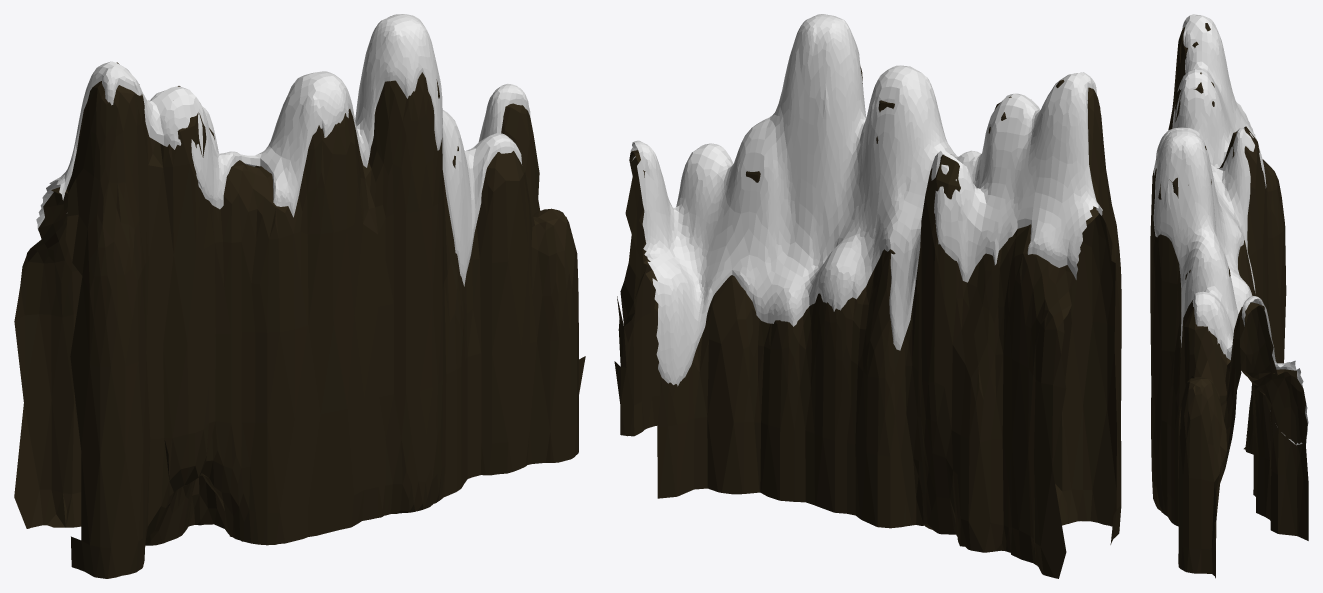
The model's file is Mtn_Wall_N0.fbx.
3 views of the same model, side by side, from view 1: azimuth 30°, elevation 25°; view 2: azimuth 150°, elevation 25°; view 3: azimuth 270°, elevation 25° (orthographic). The views are drawn at different scales.
Visible parts, largest first — view 1: Mtn_Wall_N0; view 2: Mtn_Wall_N0; view 3: Mtn_Wall_N0.
Part boxes in pixels (<box>): Mtn_Wall_N0: <box>14,14,585,578</box>; Mtn_Wall_N0: <box>614,14,1121,578</box>; Mtn_Wall_N0: <box>1150,14,1308,578</box>.
Bounding box in the file's own units: 20280 × 18174 × 6798.
